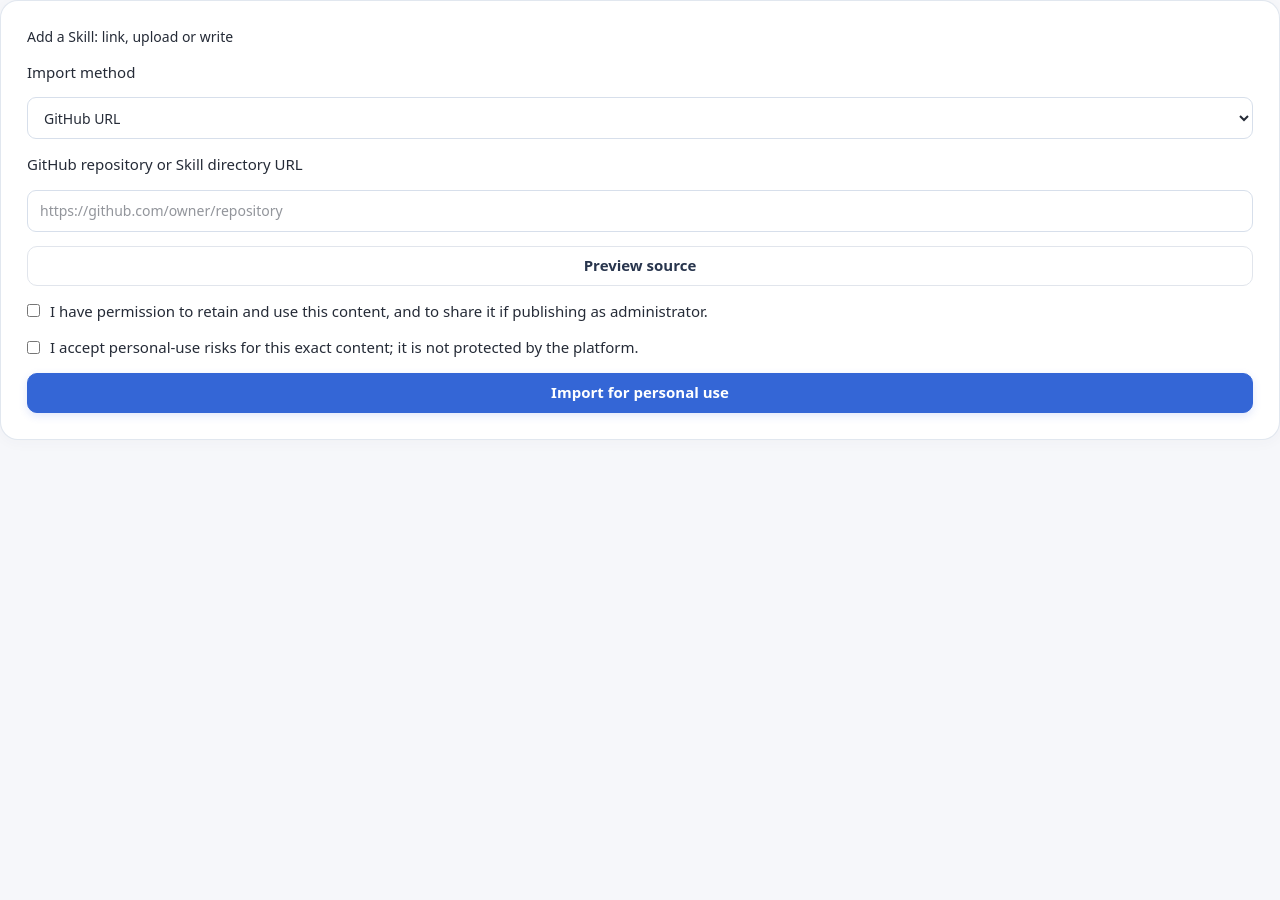
it: previews a unique GitHub candidate directly and imports only after consent
Type "https://github.com/example/methods" into the field labelled "GitHub repository or Skill directory URL" at (640, 211), box [27, 190, 1253, 232]
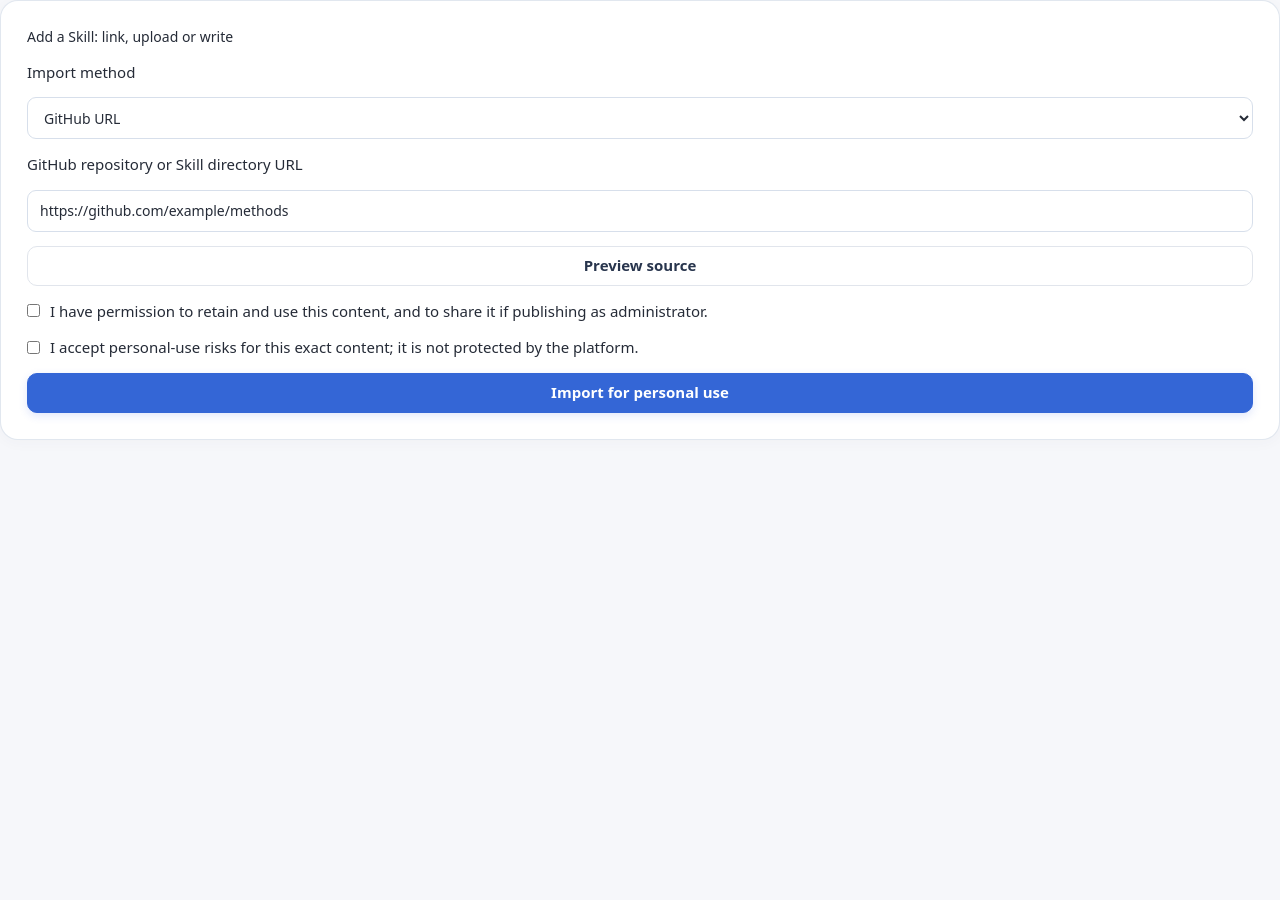
Click the button "Preview source" at (640, 266), box [27, 246, 1253, 286]
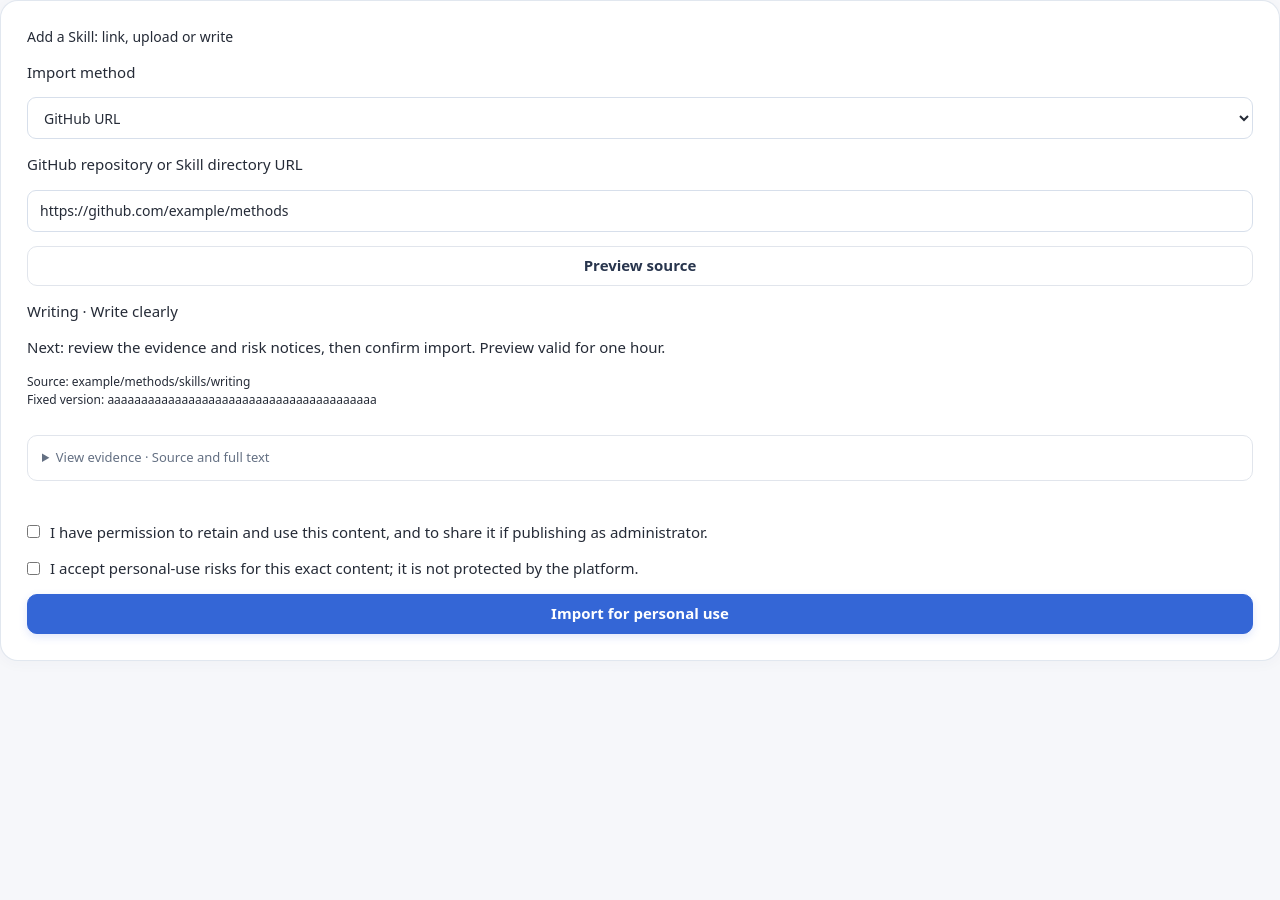
Expected: the button "Import for personal use" is disabled, [27, 594, 1253, 634]
Click the checkbox labelled "I have permission" at (34, 532), box [27, 525, 40, 538]
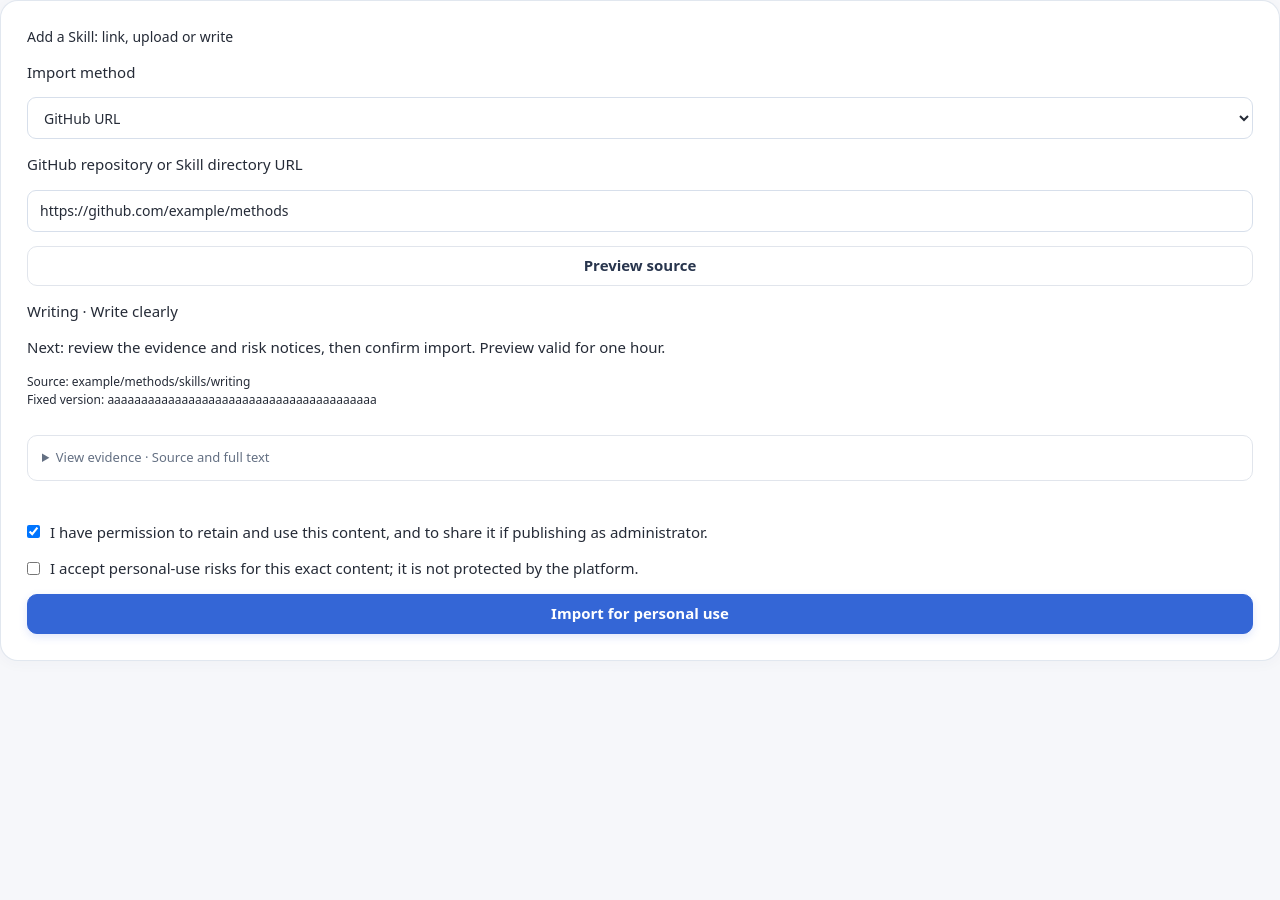
Click the checkbox labelled "I accept personal-use risks" at (34, 568), box [27, 562, 40, 575]
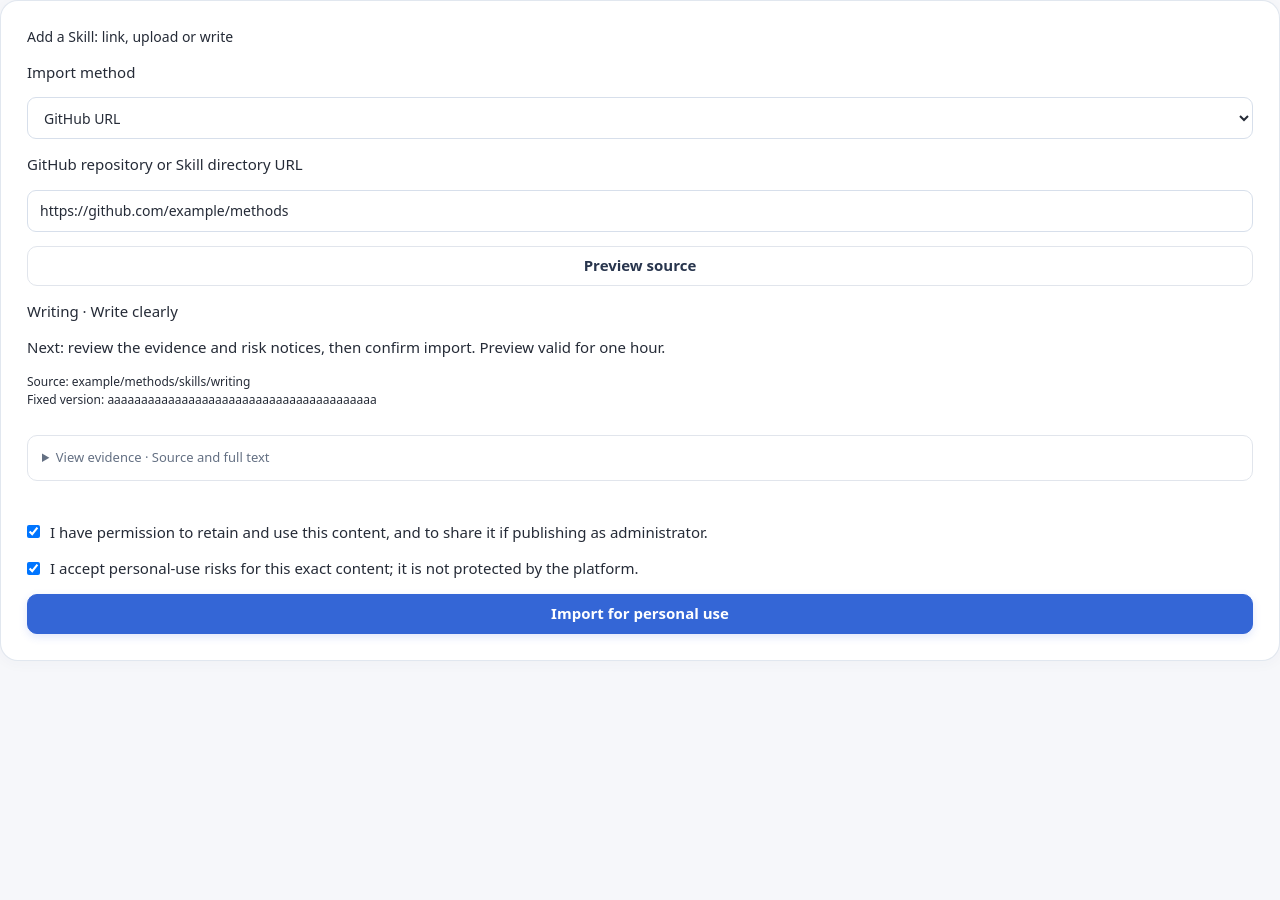
Click the button "Import for personal use" at (640, 614), box [27, 594, 1253, 634]
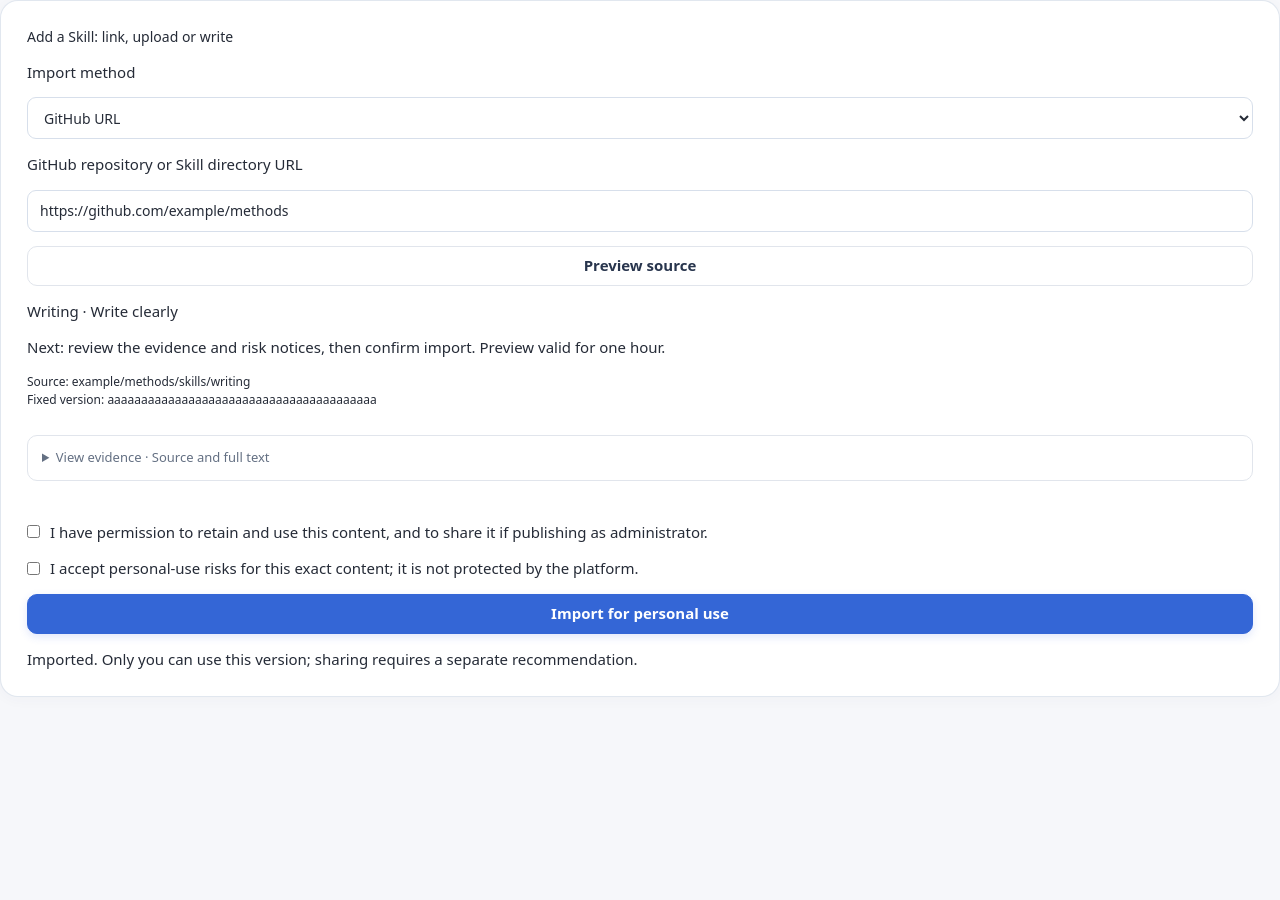
Expected: the message shows "Imported. Only you can use this version; sharing requires a separate recommendation.", [27, 649, 638, 669]
